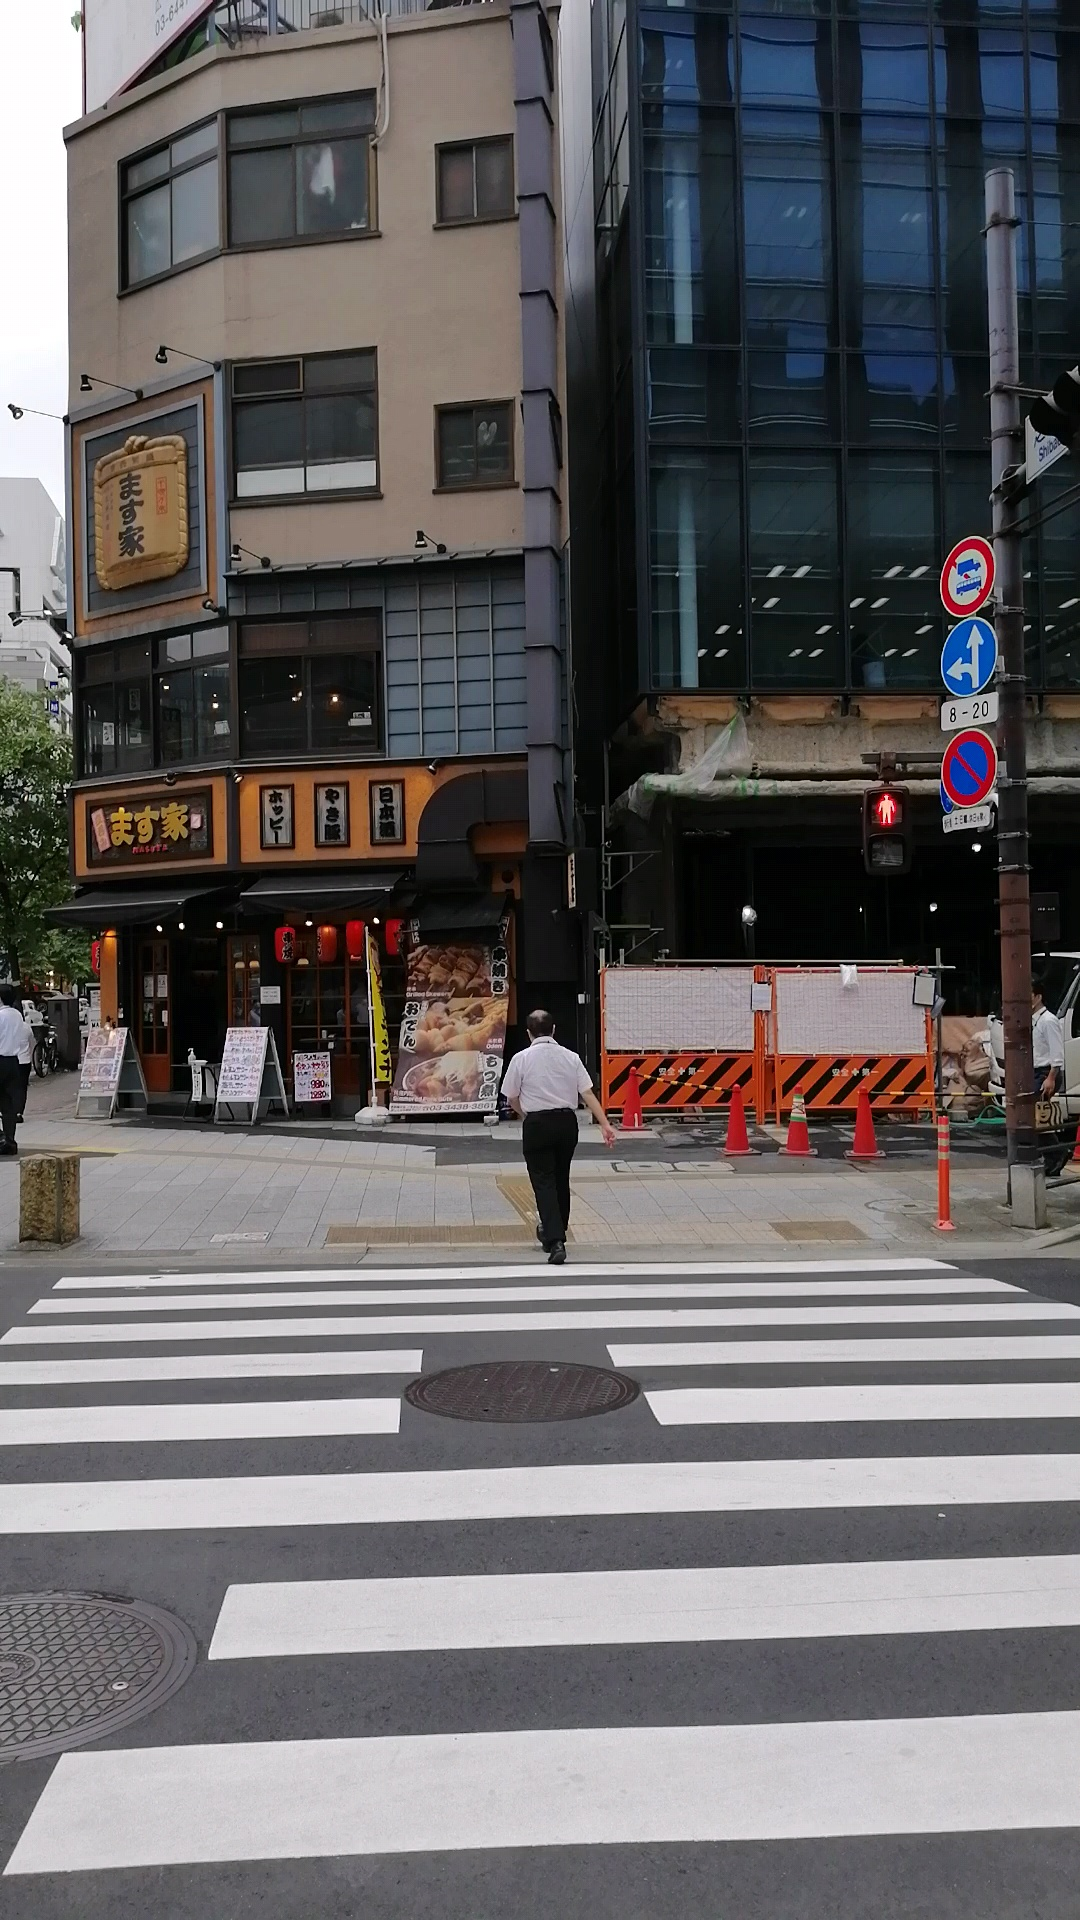red: (862, 786, 909, 872)
